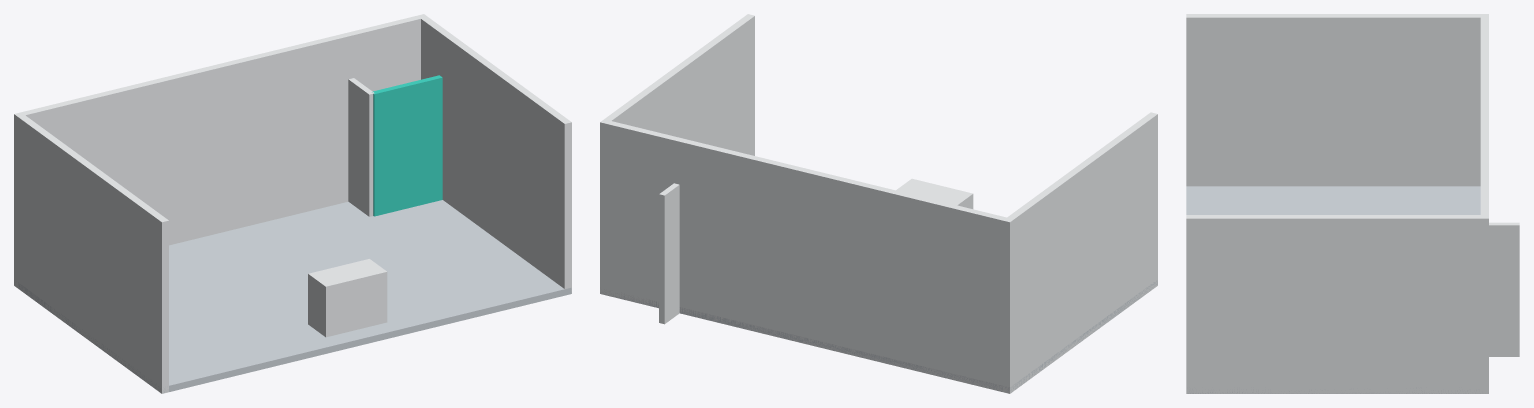
The picture shows the model from 3 angles, left to right: view 1: azimuth 30°, elevation 25°; view 2: azimuth 150°, elevation 25°; view 3: azimuth 270°, elevation 25°; orthographic projection. The views are drawn at different scales.
Visible parts, largest first — view 1: Exhibition Booth Concept; view 2: Exhibition Booth Concept; view 3: Exhibition Booth Concept.
Part boxes in pixels (bbox=[...]): Exhibition Booth Concept: bbox=[14, 14, 571, 393]; Exhibition Booth Concept: bbox=[600, 14, 1157, 393]; Exhibition Booth Concept: bbox=[1186, 14, 1519, 393].
Bounding box in the file's own units: 8 × 3.2 × 5.51.
